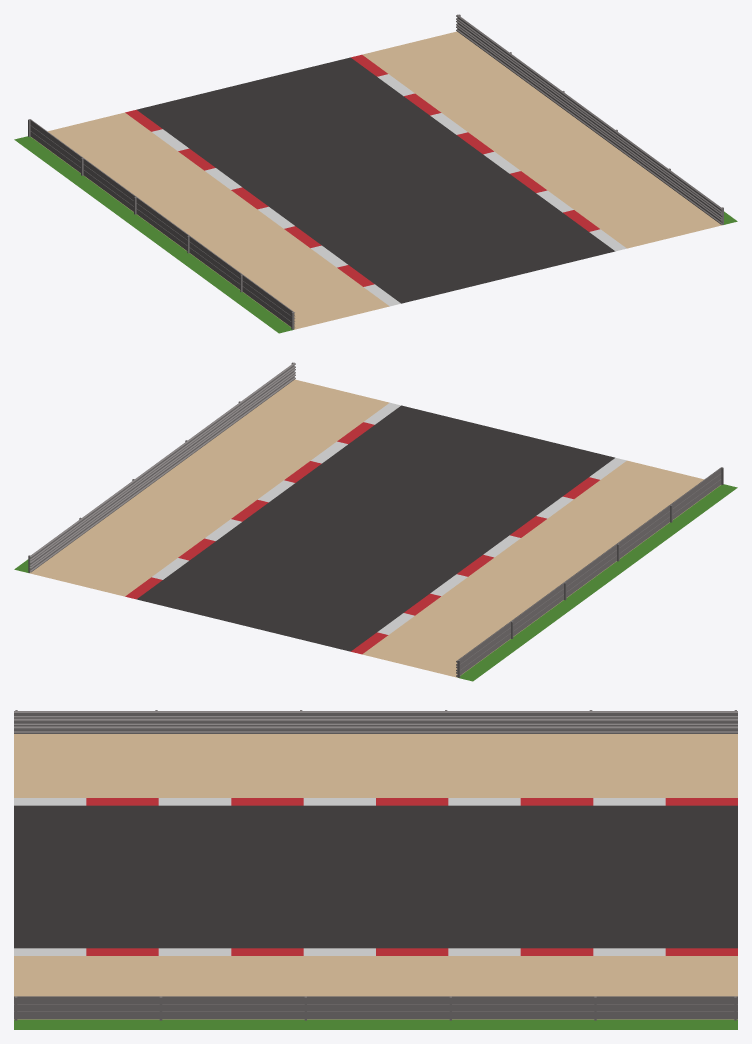
The model's file is tiles-nb-tile-race-track-straight-curbs-sand-nb.glb.
3 views of the same model, one above another, from view 1: azimuth 30°, elevation 25°; view 2: azimuth 150°, elevation 25°; view 3: azimuth 270°, elevation 25° (orthographic). The views are drawn at different scales.
Parts seen in each view (by area): view 1: tile-race-track-straight-curbs-sand-nb; view 2: tile-race-track-straight-curbs-sand-nb; view 3: tile-race-track-straight-curbs-sand-nb.
Part boxes in pixels (bbox=[...]): tile-race-track-straight-curbs-sand-nb: bbox=[14, 14, 737, 333]; tile-race-track-straight-curbs-sand-nb: bbox=[14, 362, 737, 681]; tile-race-track-straight-curbs-sand-nb: bbox=[14, 710, 737, 1029].
Size of the model in its own units: 30 by 1.05 by 30.
